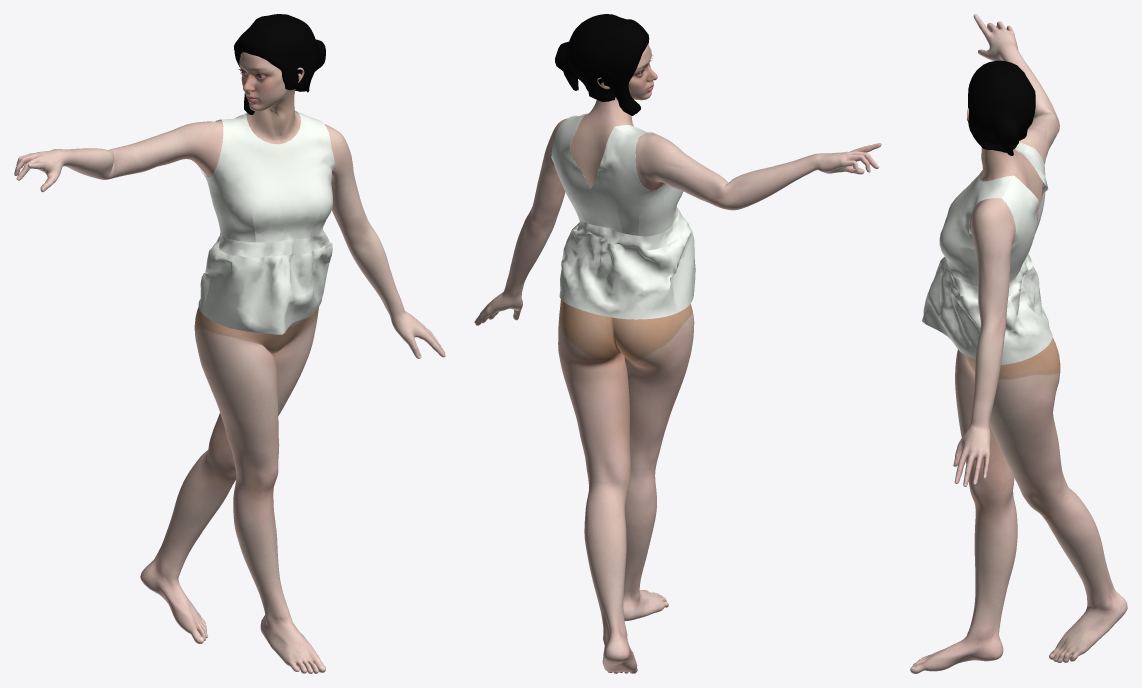
The model's file is Dynamic_2.obj.
The picture shows the model from 3 angles, left to right: view 1: azimuth 30°, elevation 25°; view 2: azimuth 150°, elevation 25°; view 3: azimuth 270°, elevation 25°; orthographic projection. The views are drawn at different scales.
Size of the model in its own units: 1226 by 1775 by 569.
